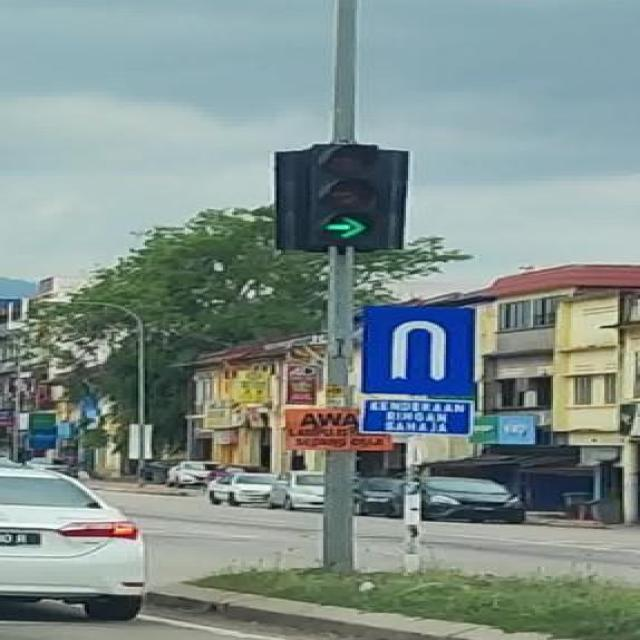car: (0, 462, 146, 623), (421, 476, 526, 525), (269, 471, 326, 512)
traffic light: (274, 144, 410, 253), (307, 144, 382, 252)
